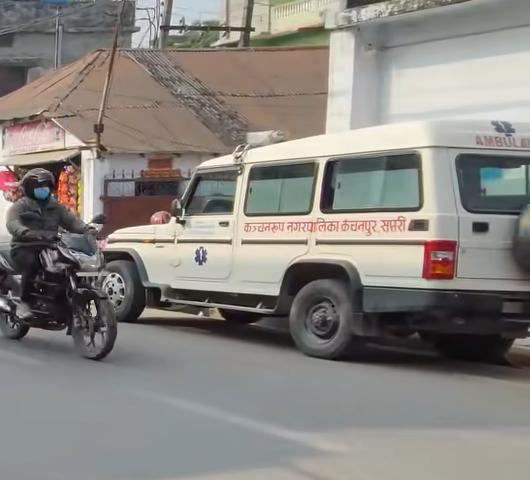ambulance: (96, 108, 530, 379)
bike: (0, 211, 125, 366)
